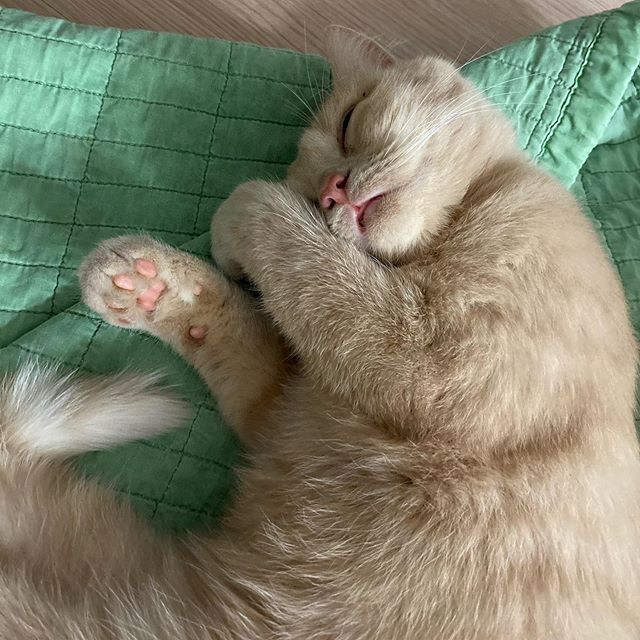cat: (287, 24, 511, 275)
